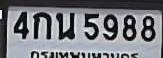4: (13, 10, 27, 38)
5: (83, 12, 98, 39)
8: (140, 15, 154, 41), (122, 14, 135, 40)
9: (102, 13, 117, 39)
A01: (32, 11, 50, 39)
A25: (55, 11, 74, 39)
